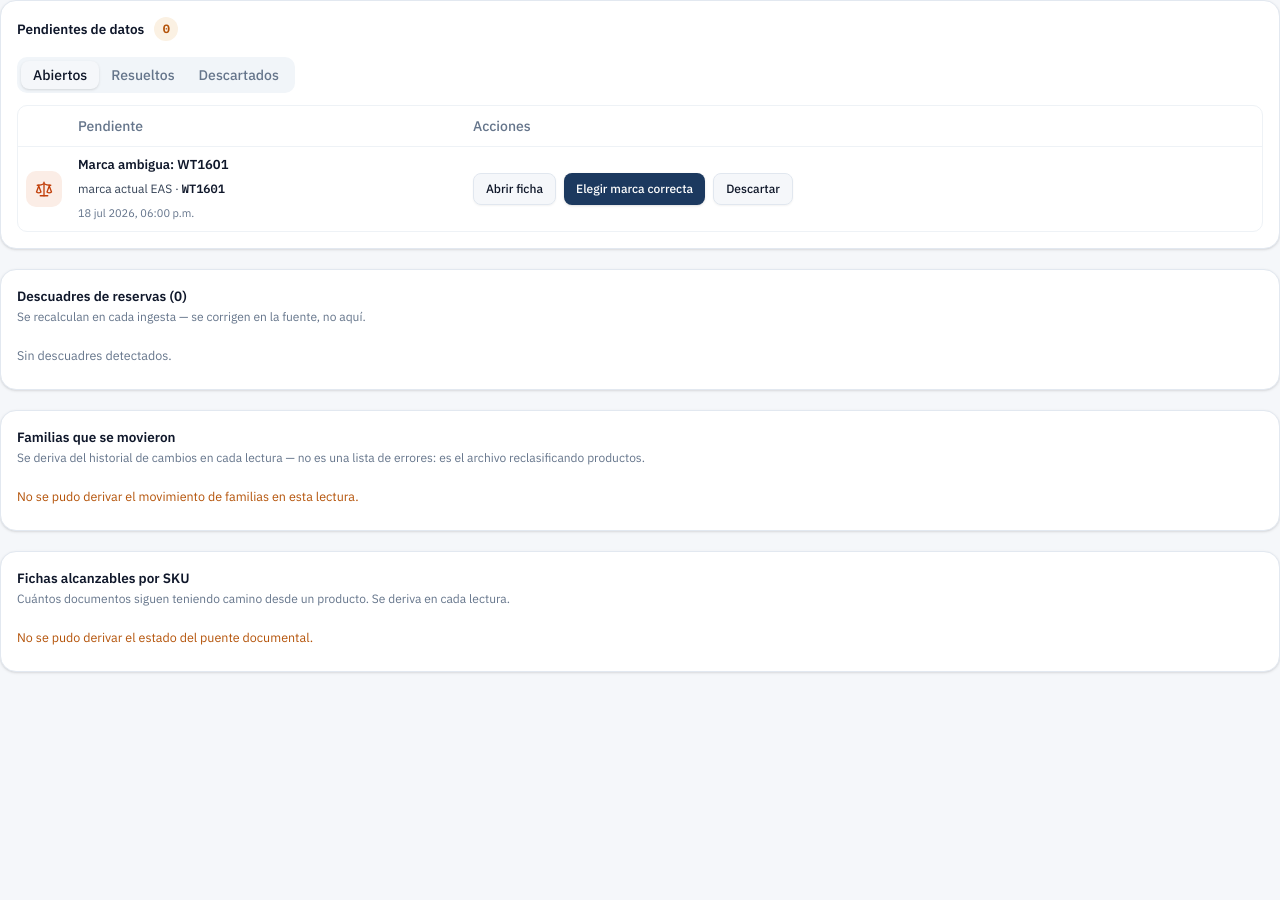
Test: BandejaView › marca_ambigua sin `pregunta` en el payload: respaldo neutro que no asegura una contradicción
Click the button "Elegir marca correcta".
click(635, 188)  # box [564,172,705,204]
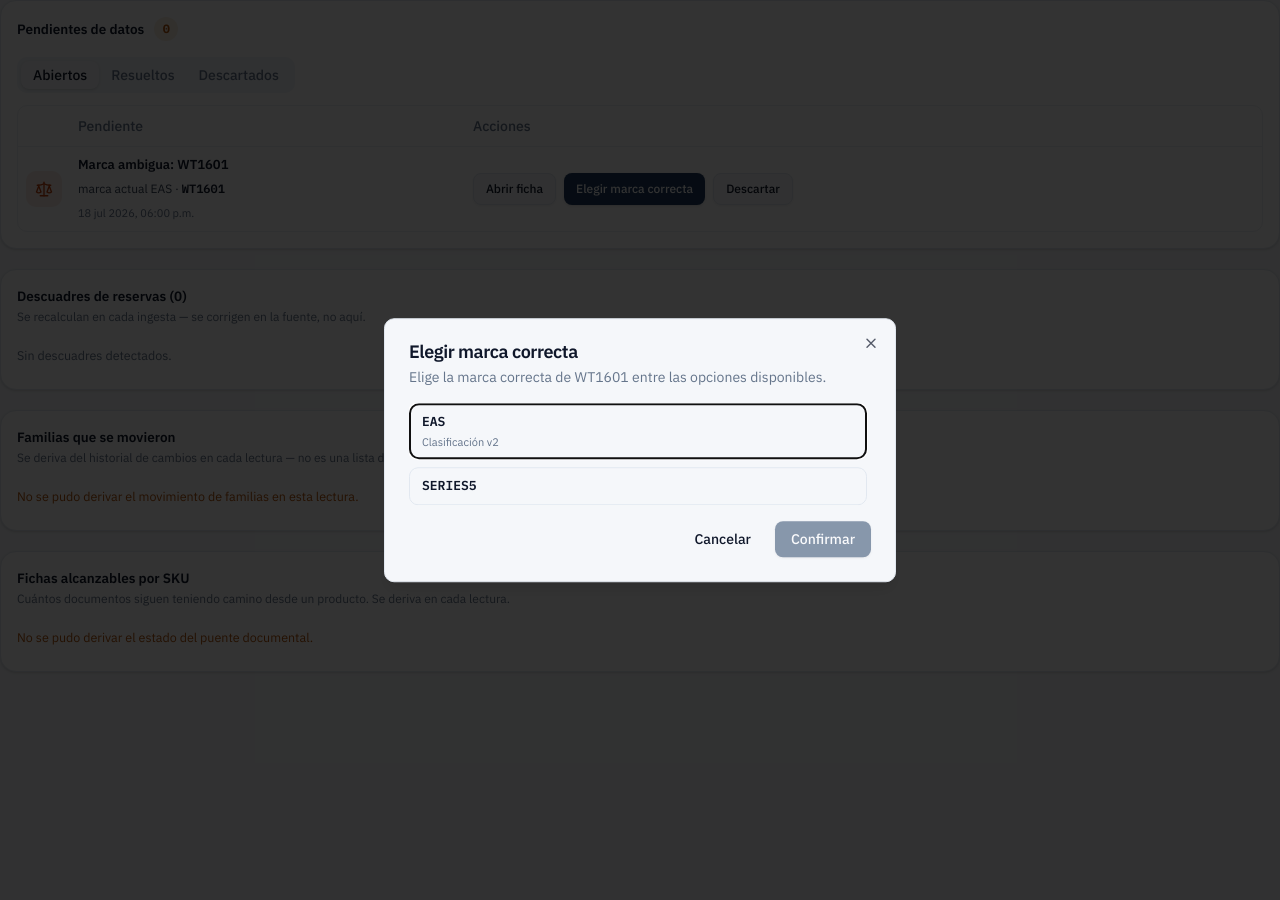
Expected: the text "Elige la marca correcta de WT1601 entre las opciones disponibles." is shown, [409,367,871,387]
